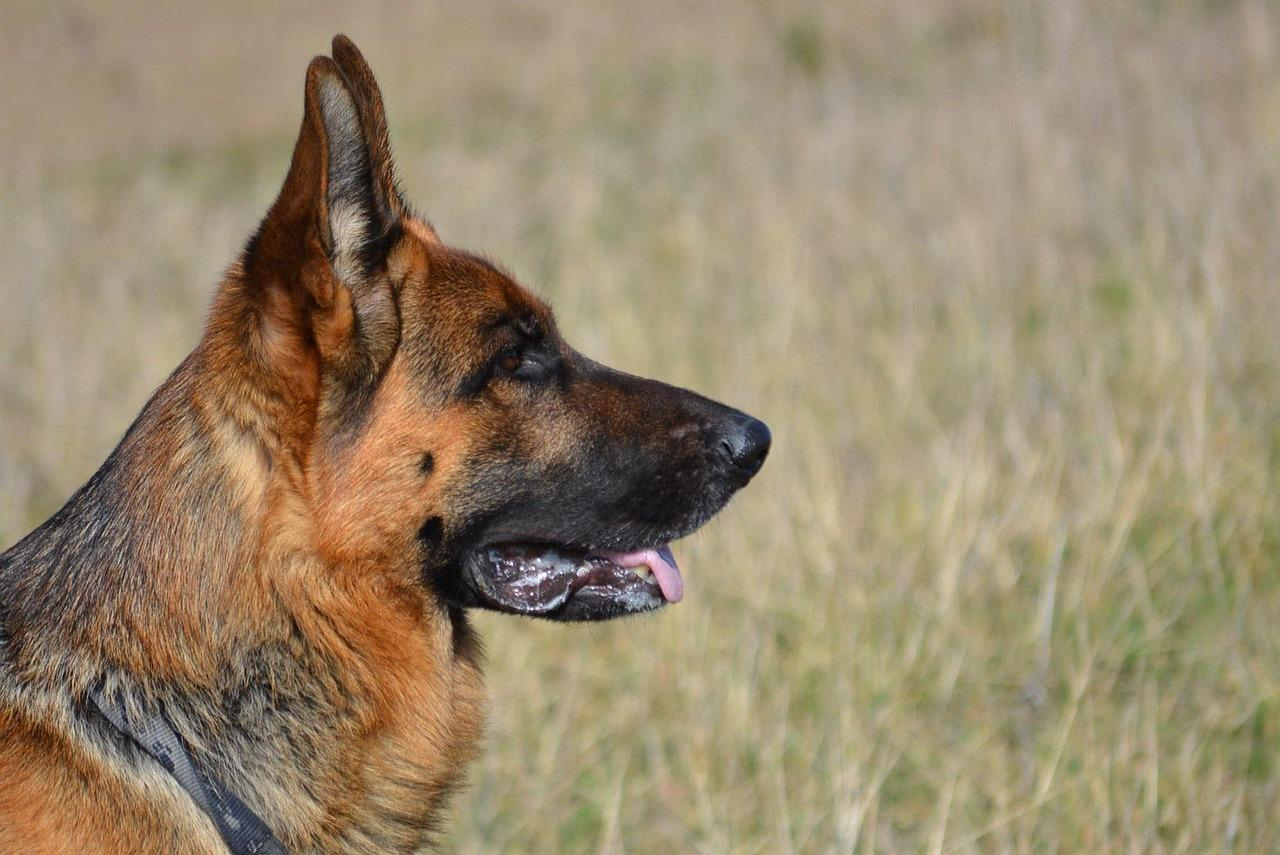german_shepherd: (230, 49, 792, 708)
